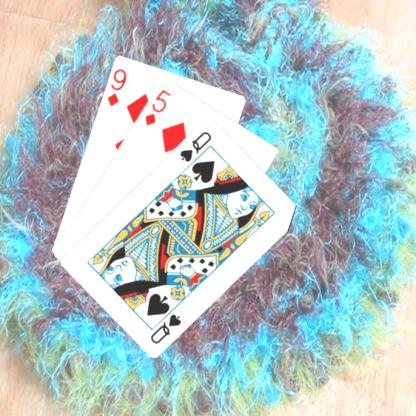5D: (142, 86, 172, 127)
9D: (104, 66, 128, 108)
QS: (177, 128, 213, 163), (147, 311, 182, 345)
